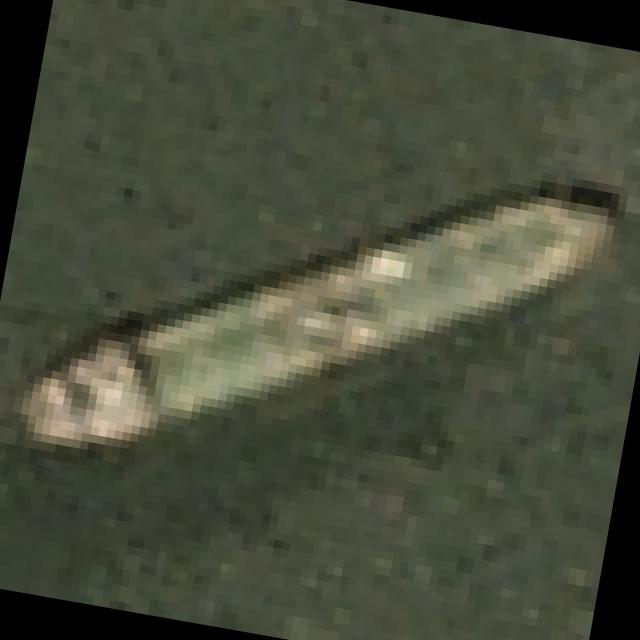ship: (4, 64, 640, 577)
